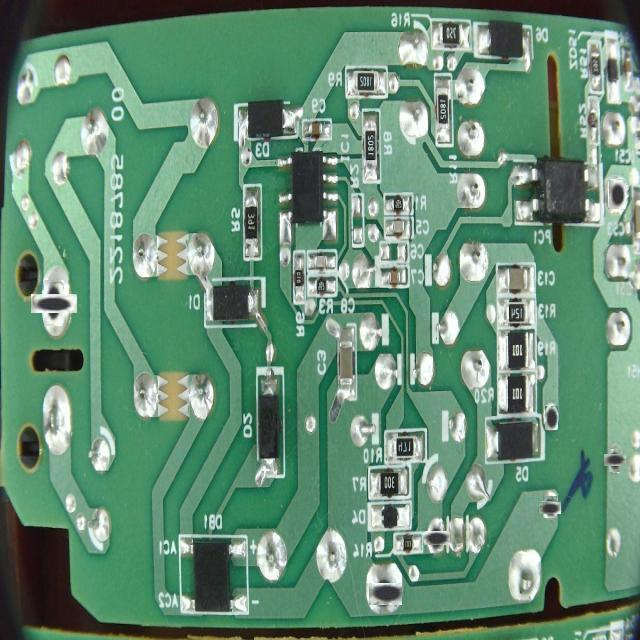damged: (38, 287, 70, 320), (371, 580, 399, 608), (608, 179, 626, 209), (426, 528, 446, 548), (544, 405, 558, 430), (542, 498, 560, 516), (606, 452, 624, 469)
